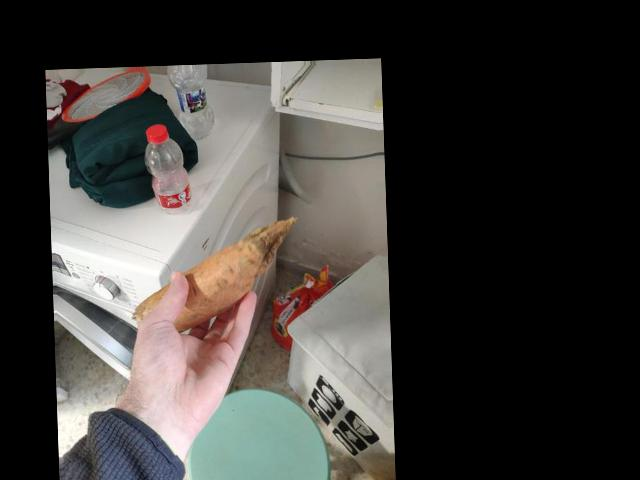sweet_potato: (149, 245, 256, 323)
